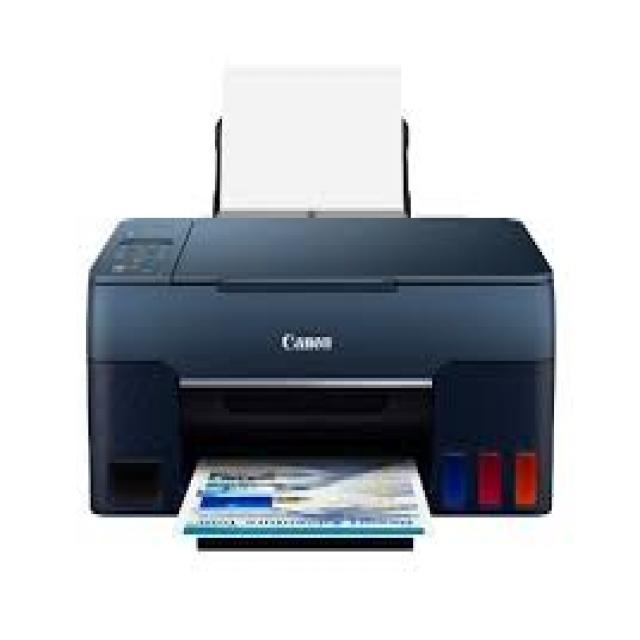printer: (51, 54, 583, 587)
